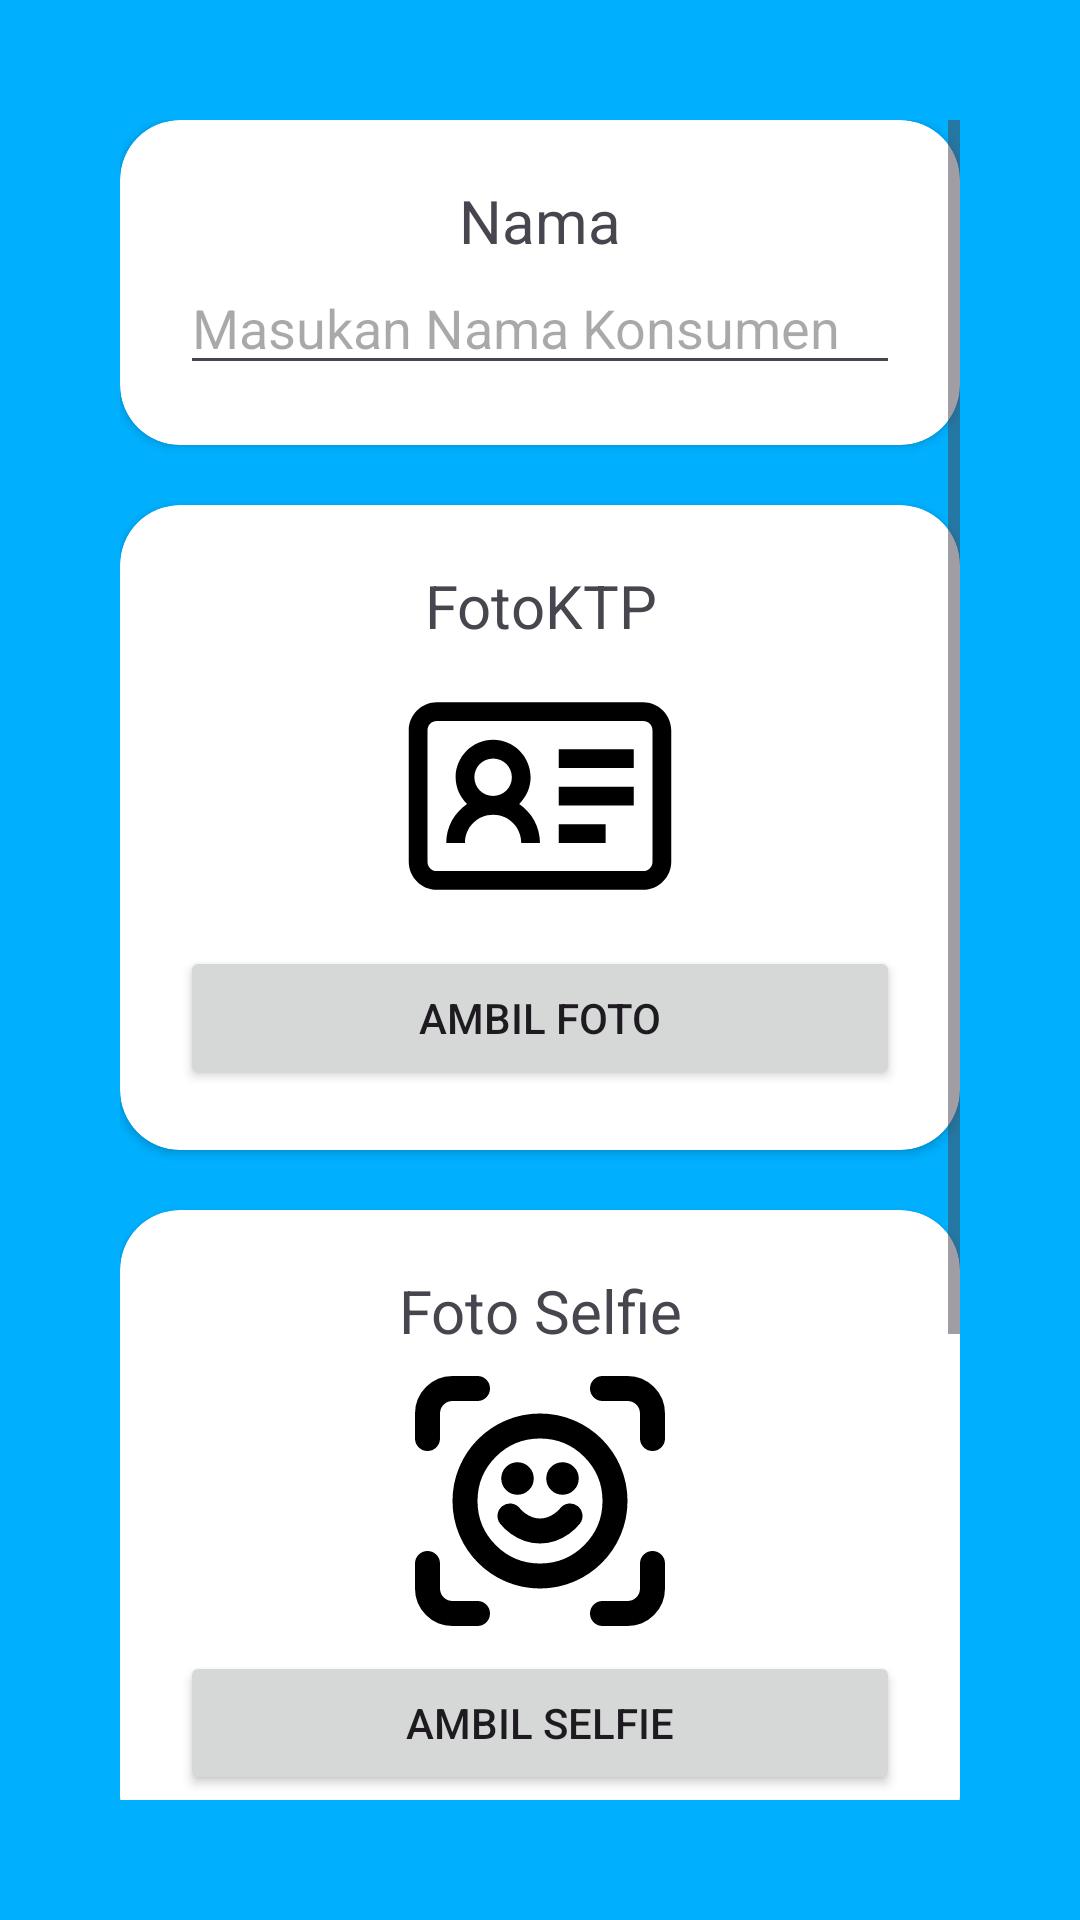

Where to tap for icons on this 1080 x 1920 app screen, as (x=x, y=y):
face id: (x=540, y=1501)
